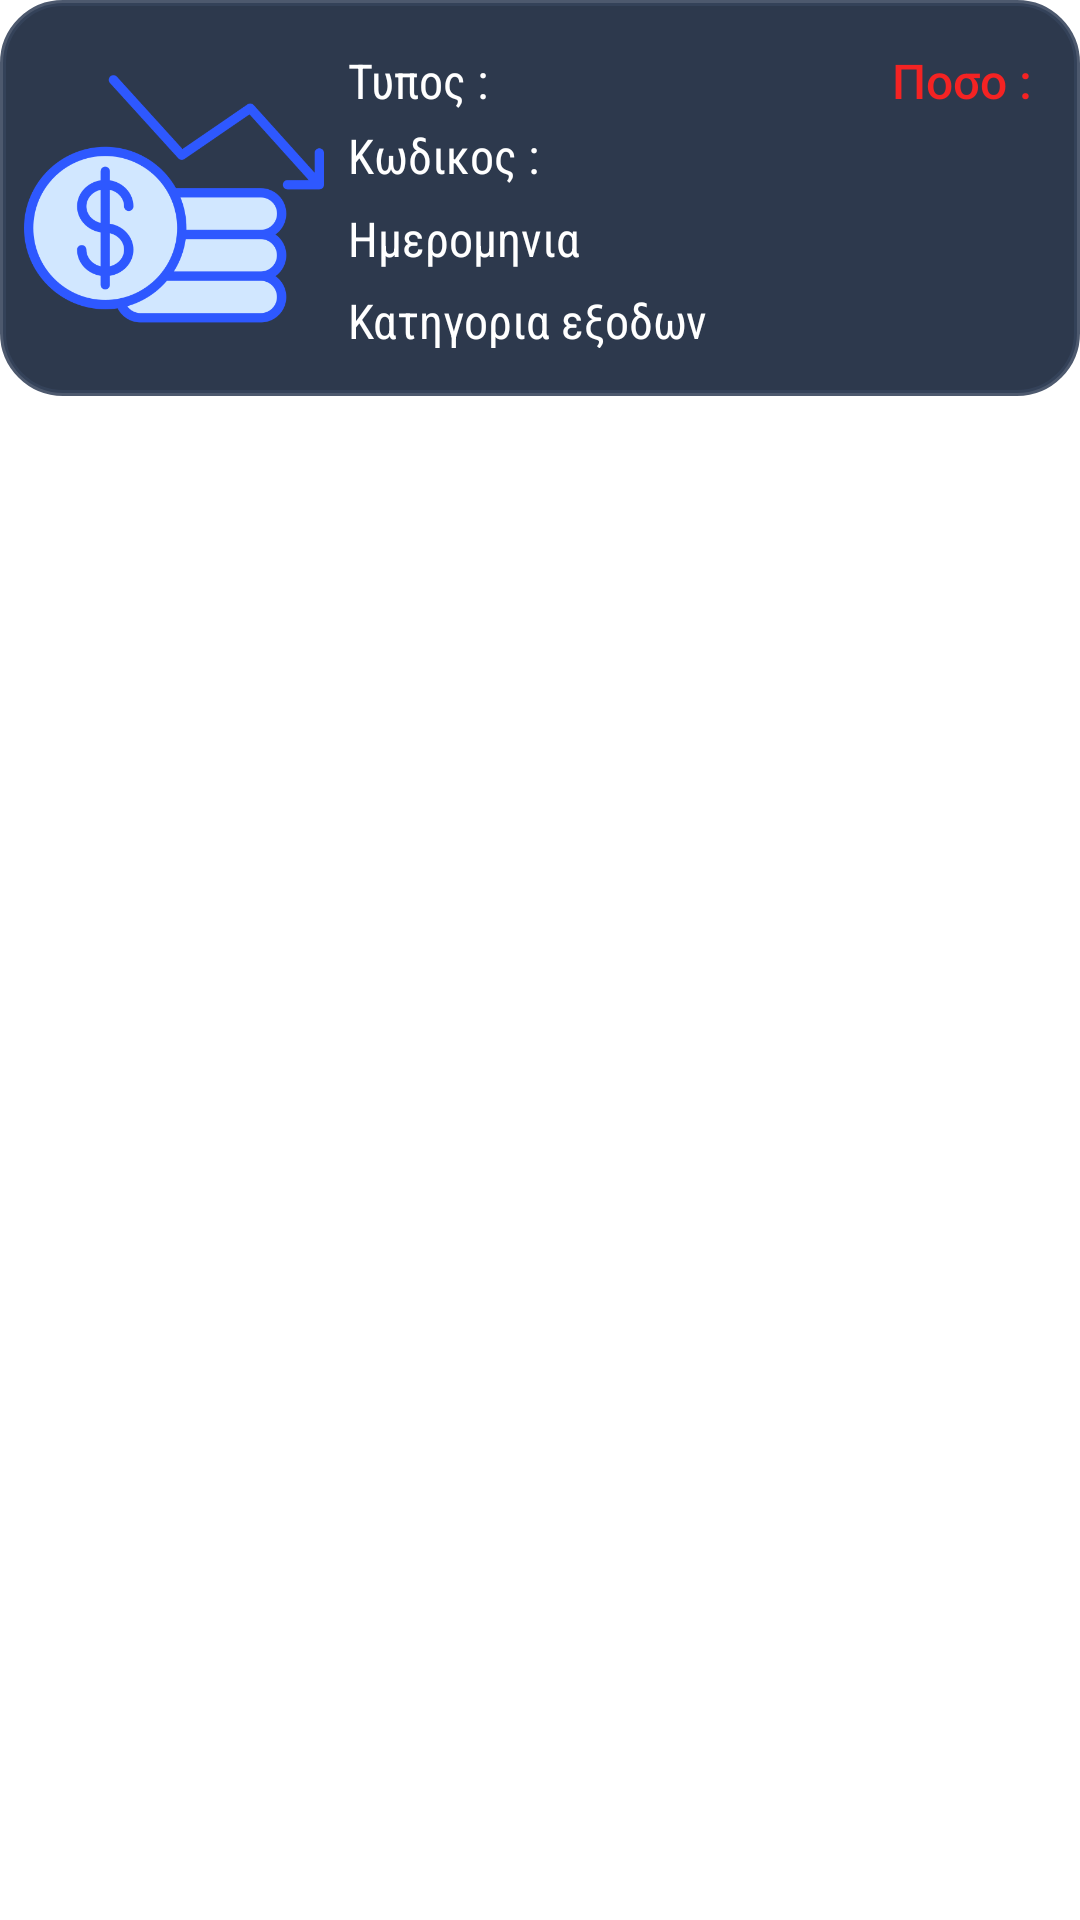

Where to tap for icons on this 1080w x 1920h app screen, as point (x, y):
down: point (174, 199)
